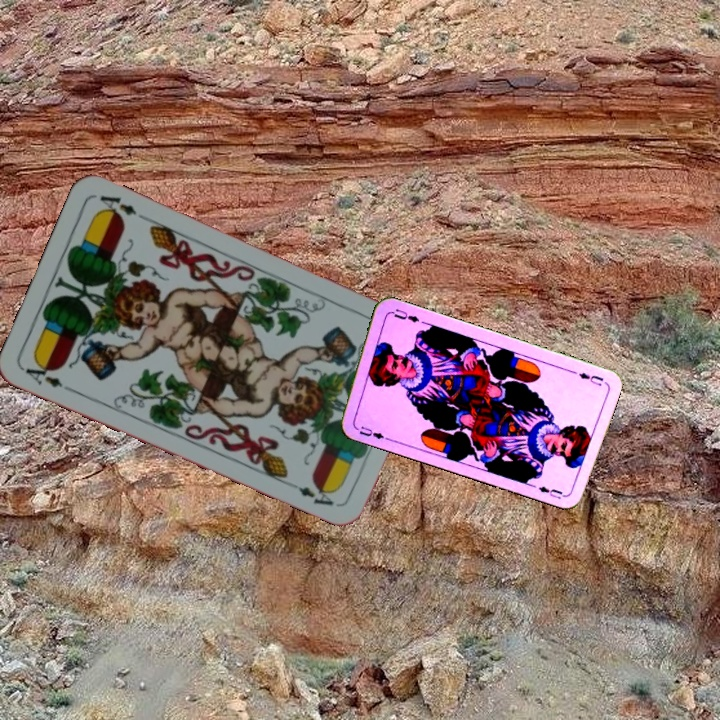EA: (21, 357, 76, 395)
EU: (355, 422, 390, 442), (575, 368, 606, 389)
